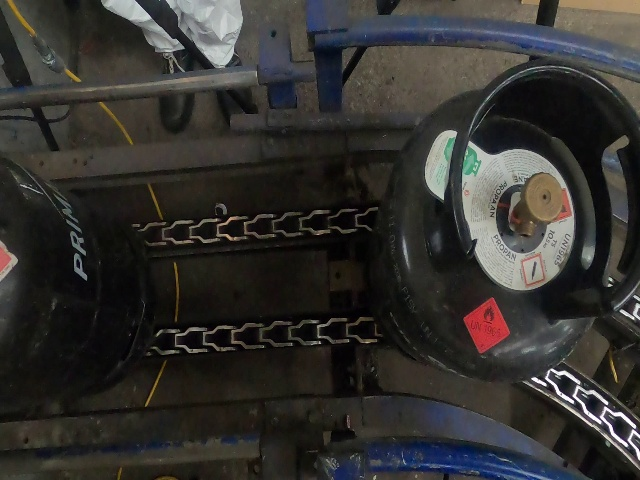gas_bottle: (1, 7, 640, 478)
